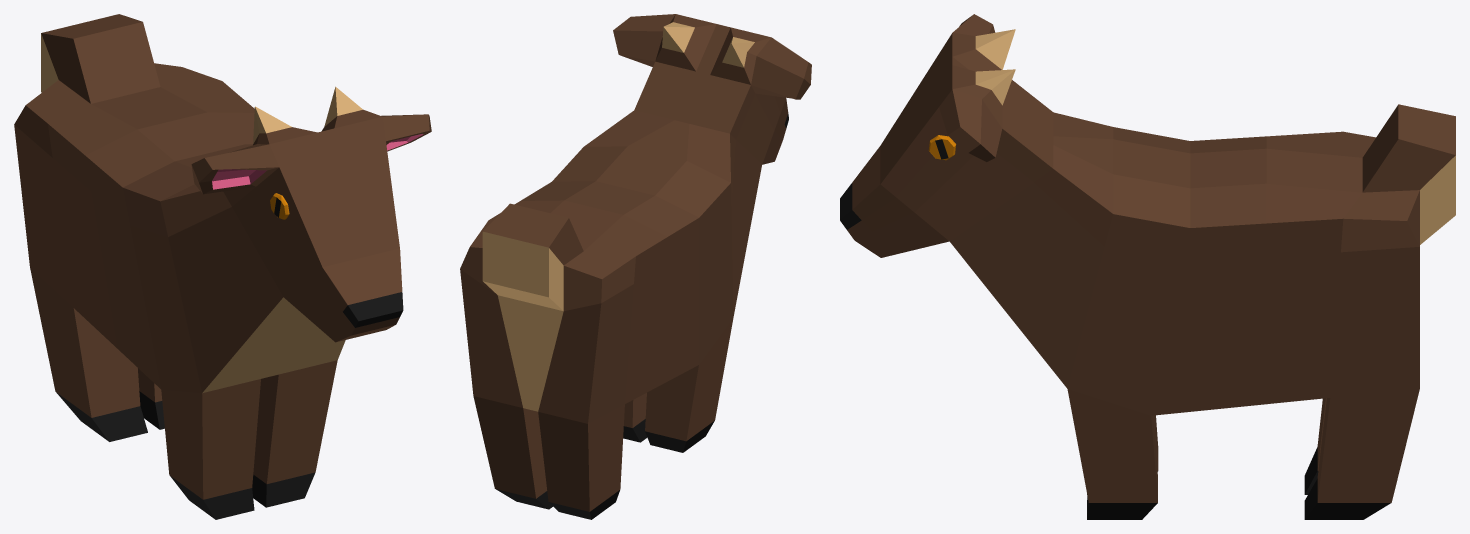
File: Goat_01.fbx
3 views of the same model, side by side, from view 1: azimuth 30°, elevation 25°; view 2: azimuth 150°, elevation 25°; view 3: azimuth 270°, elevation 25° (orthographic). The views are drawn at different scales.
Visible parts, largest first — view 1: Goat_01; view 2: Goat_01; view 3: Goat_01.
Part boxes in pixels (x1=…): Goat_01: x1=14, y1=14, x2=431, y2=519; Goat_01: x1=460, y1=14, x2=811, y2=519; Goat_01: x1=840, y1=14, x2=1455, y2=519.
Bounding box in the file's own units: 4.7 × 8.47 × 10.54.
